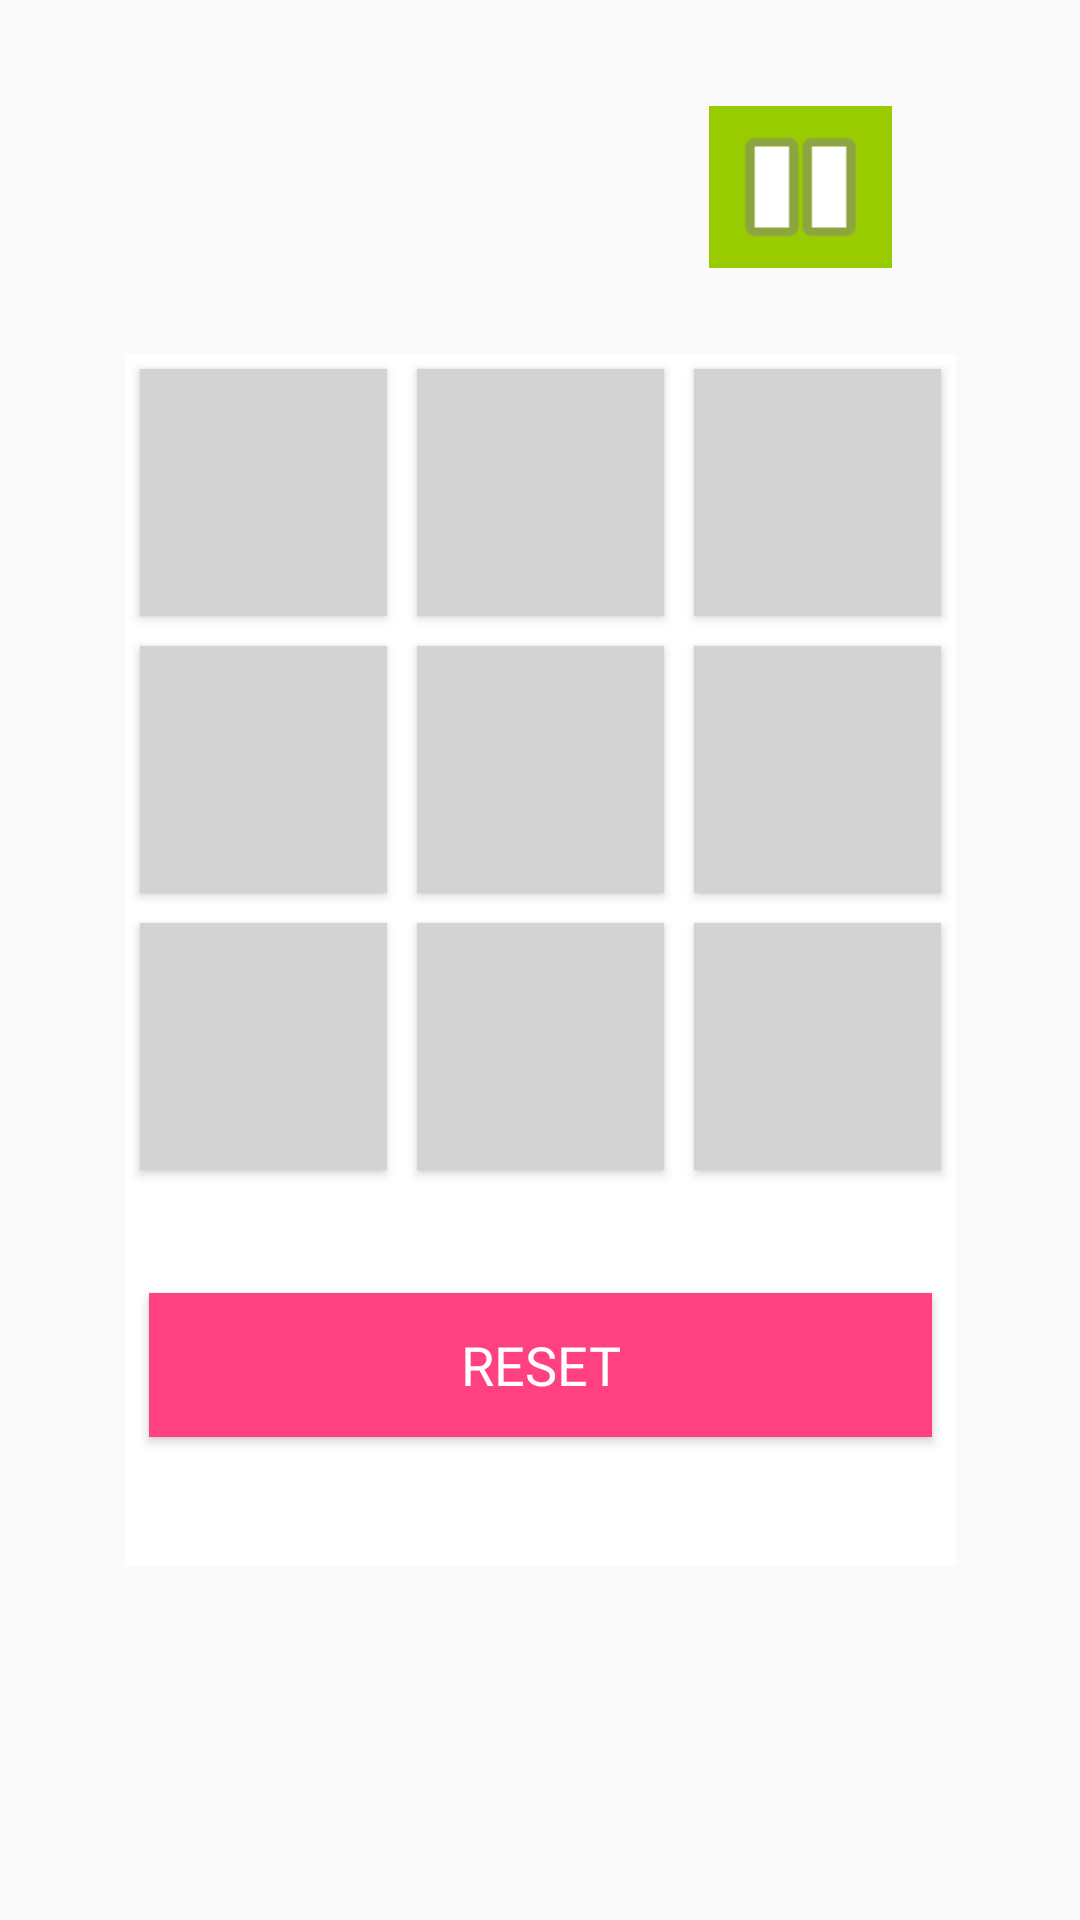

Where to tap for icons on this 1080px×1920px app screen, as (x,y):
pause: (800,187)
